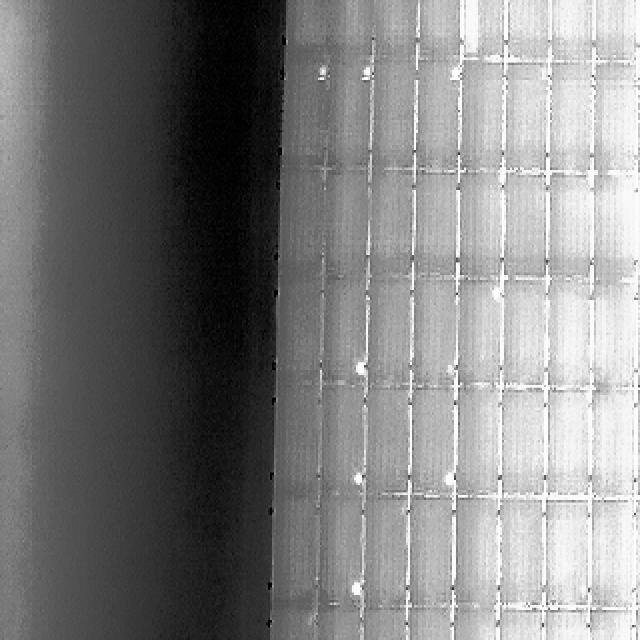Hotspots: (314, 65, 336, 93), (444, 62, 466, 86), (440, 358, 458, 380), (442, 465, 456, 493), (489, 282, 505, 306), (355, 65, 373, 82), (346, 579, 362, 597), (349, 470, 365, 488), (352, 362, 368, 379)
PV-modules: (268, 497, 318, 609), (366, 281, 416, 391), (359, 497, 407, 611), (499, 500, 548, 611), (544, 280, 592, 392), (371, 58, 419, 170), (319, 385, 367, 497), (272, 386, 320, 498), (459, 62, 506, 176), (318, 496, 365, 610), (406, 498, 454, 608), (454, 386, 502, 496), (410, 280, 458, 390), (408, 386, 456, 496), (590, 501, 638, 611), (361, 386, 409, 496), (591, 388, 639, 498), (320, 280, 368, 390), (453, 498, 500, 610), (416, 62, 462, 176), (543, 391, 591, 500), (273, 281, 321, 390), (321, 171, 370, 277), (542, 503, 590, 611), (591, 284, 639, 392), (546, 60, 592, 172), (411, 171, 459, 278), (368, 171, 416, 278), (277, 169, 323, 280), (456, 281, 503, 389), (591, 175, 638, 283), (506, 66, 552, 176), (503, 280, 549, 390), (592, 61, 638, 171), (458, 172, 505, 279), (502, 388, 548, 497), (545, 175, 592, 281), (504, 172, 550, 278), (282, 60, 326, 168), (327, 58, 368, 166), (369, 0, 417, 59), (508, 0, 554, 61), (594, 0, 640, 60), (462, 0, 508, 59), (548, 0, 592, 60), (326, 0, 371, 58), (416, 0, 461, 57), (284, 0, 326, 60), (266, 605, 314, 640), (498, 607, 546, 640), (404, 607, 452, 640), (452, 607, 500, 640), (356, 607, 404, 640), (314, 610, 362, 640), (540, 612, 590, 640), (588, 612, 636, 640), (632, 68, 640, 178), (632, 388, 640, 498), (632, 502, 640, 610), (632, 285, 640, 390), (634, 172, 640, 280), (634, 0, 640, 60), (630, 610, 640, 640)
